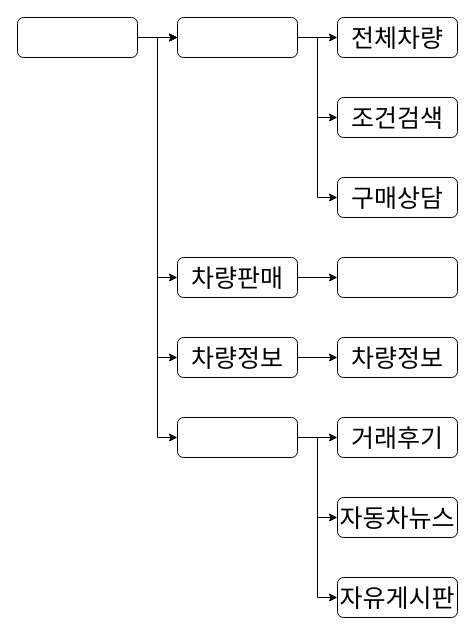
Image size: 475x635. Some labels were removed from this diagram. Here are the shapes that lost their labels. From the top down, the centre of each, then its label:
At (77,37): "메인페이지".
At (237,37): "차량구매".
At (397,277): "판매상담".
At (237,437): "커뮤니티".
